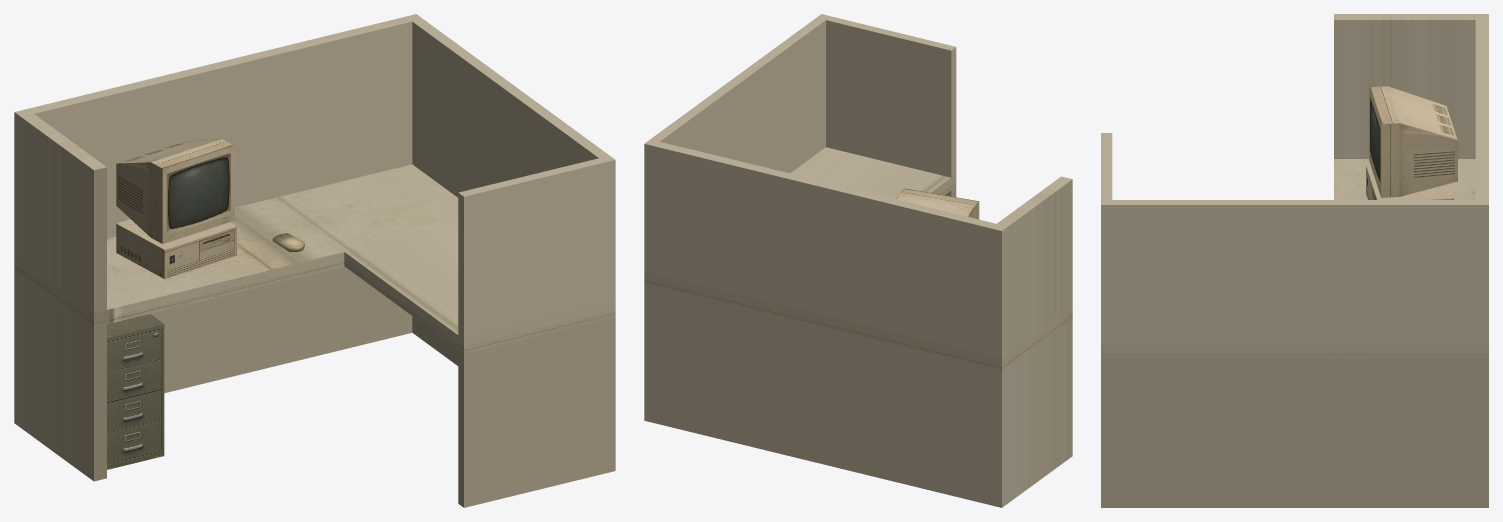
File: cubical.glb
The picture shows the model from 3 angles, left to right: view 1: azimuth 30°, elevation 25°; view 2: azimuth 150°, elevation 25°; view 3: azimuth 270°, elevation 25°; orthographic projection. The views are drawn at different scales.
Parts seen in each view (by area): view 1: Cube.005; view 2: Cube.005; view 3: Cube.005.
Part boxes in pixels (x1,y1,x2,y2): Cube.005: (14, 14, 615, 507); Cube.005: (644, 14, 1072, 507); Cube.005: (1101, 14, 1488, 507).
Bounding box in the file's own units: 4.43 × 3.27 × 3.8.
3 materials, 3 textured.
